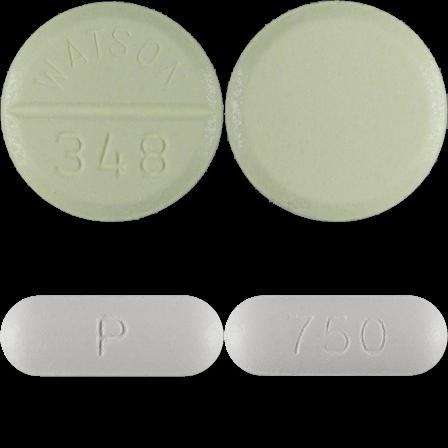33261-365: (0, 0, 224, 224)
